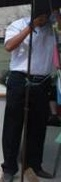boots: (1, 169, 14, 182), (0, 174, 18, 182)
hard-hat: (0, 0, 20, 24)
